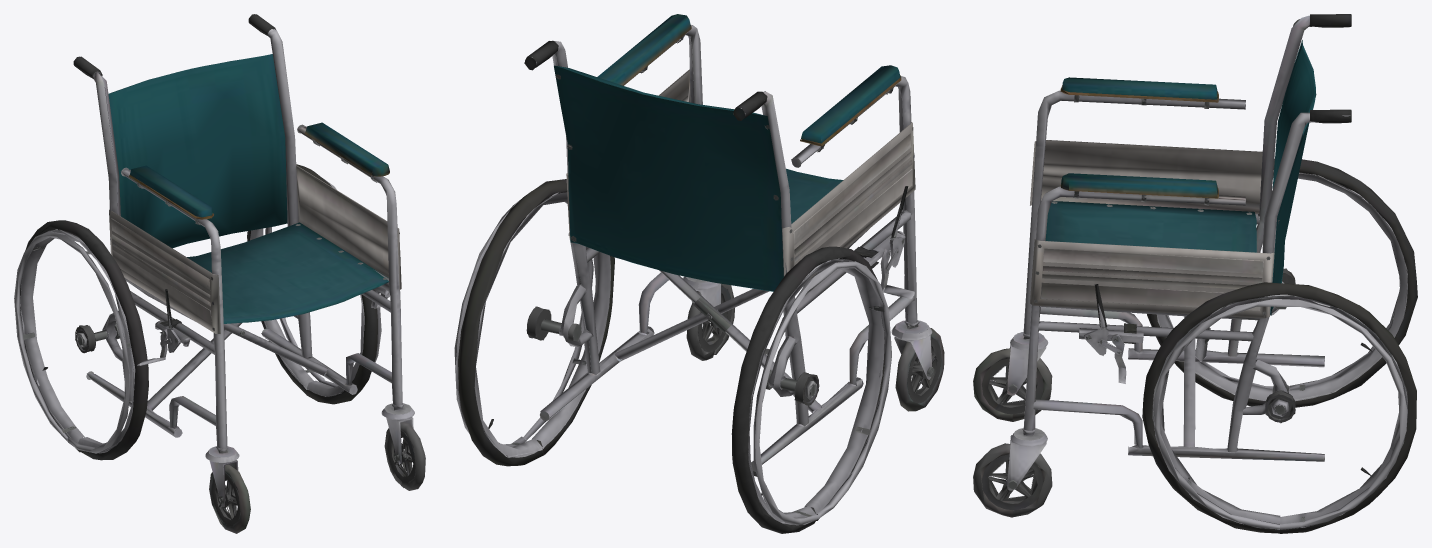
Rendered from wheelchair_01.glb.
3 views of the same model, side by side, from view 1: azimuth 30°, elevation 25°; view 2: azimuth 150°, elevation 25°; view 3: azimuth 270°, elevation 25° (orthographic). The views are drawn at different scales.
Parts seen in each view (by area): view 1: wheelchair_01; view 2: wheelchair_01; view 3: wheelchair_01.
Boxes of the visible parts, left/top/right/bottom form: wheelchair_01: left=14, top=14, right=425, bottom=533; wheelchair_01: left=454, top=14, right=944, bottom=533; wheelchair_01: left=973, top=14, right=1417, bottom=533.
Bounding box in the file's own units: 0.8241 × 1.1 × 1.09.
1 material, 1 textured.
